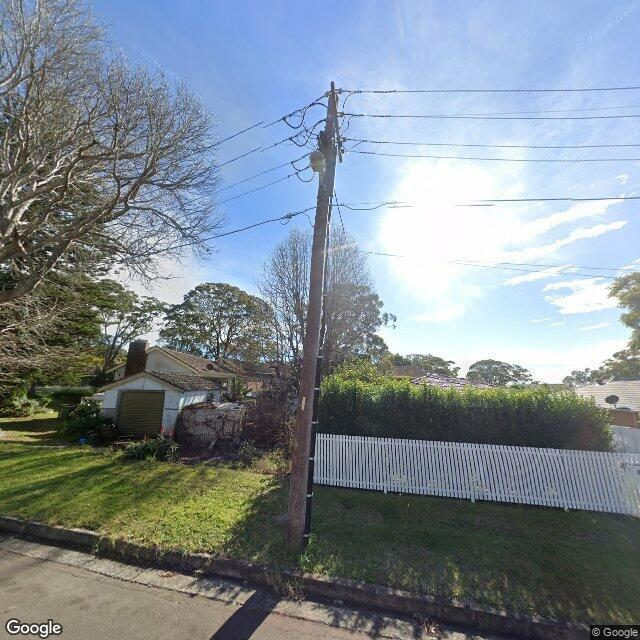crossarm: (330, 80, 342, 164)
streetlight: (309, 150, 331, 200)
timber-pole: (285, 89, 340, 552)
